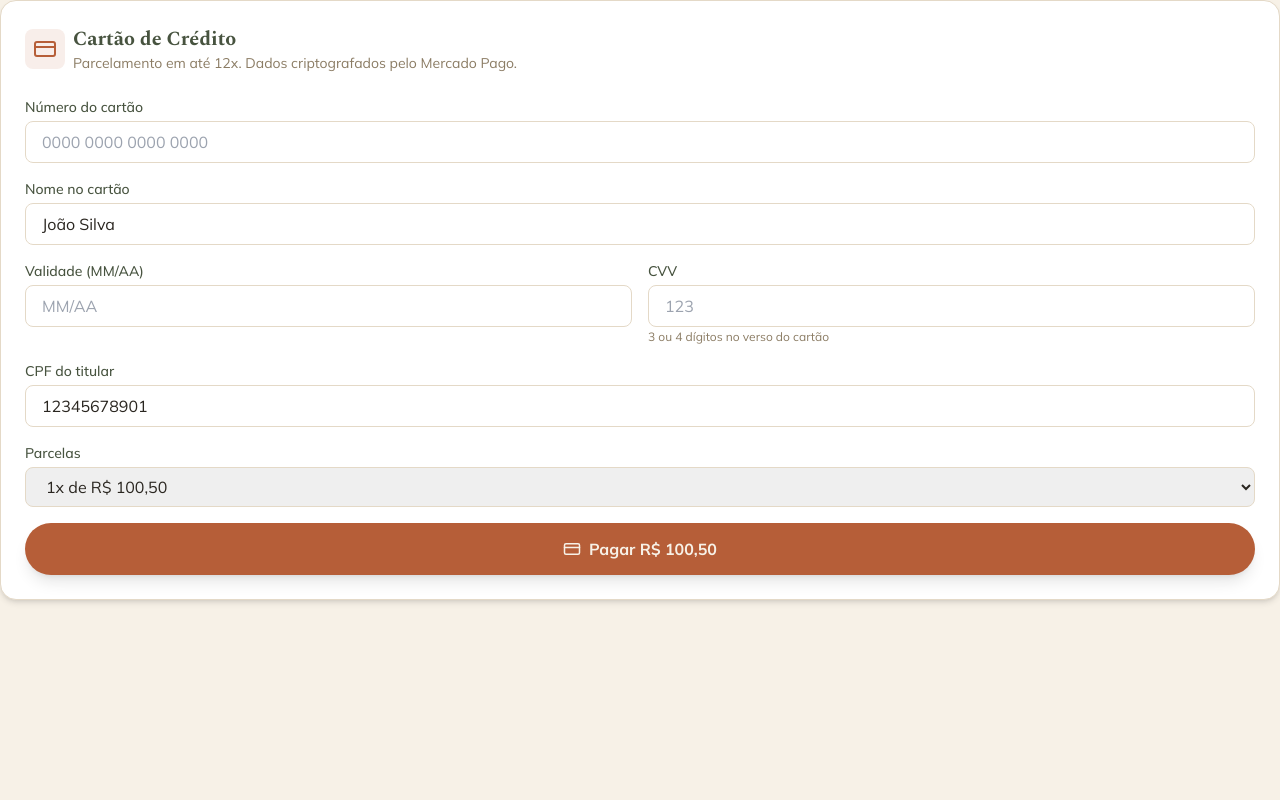
Test: CardPaymentForm › deve formatar número do cartão ao digitar
Type "1234567812345678" into the field with placeholder "0000 0000 0000 0000" at (640, 142), box [25,121,1255,163]
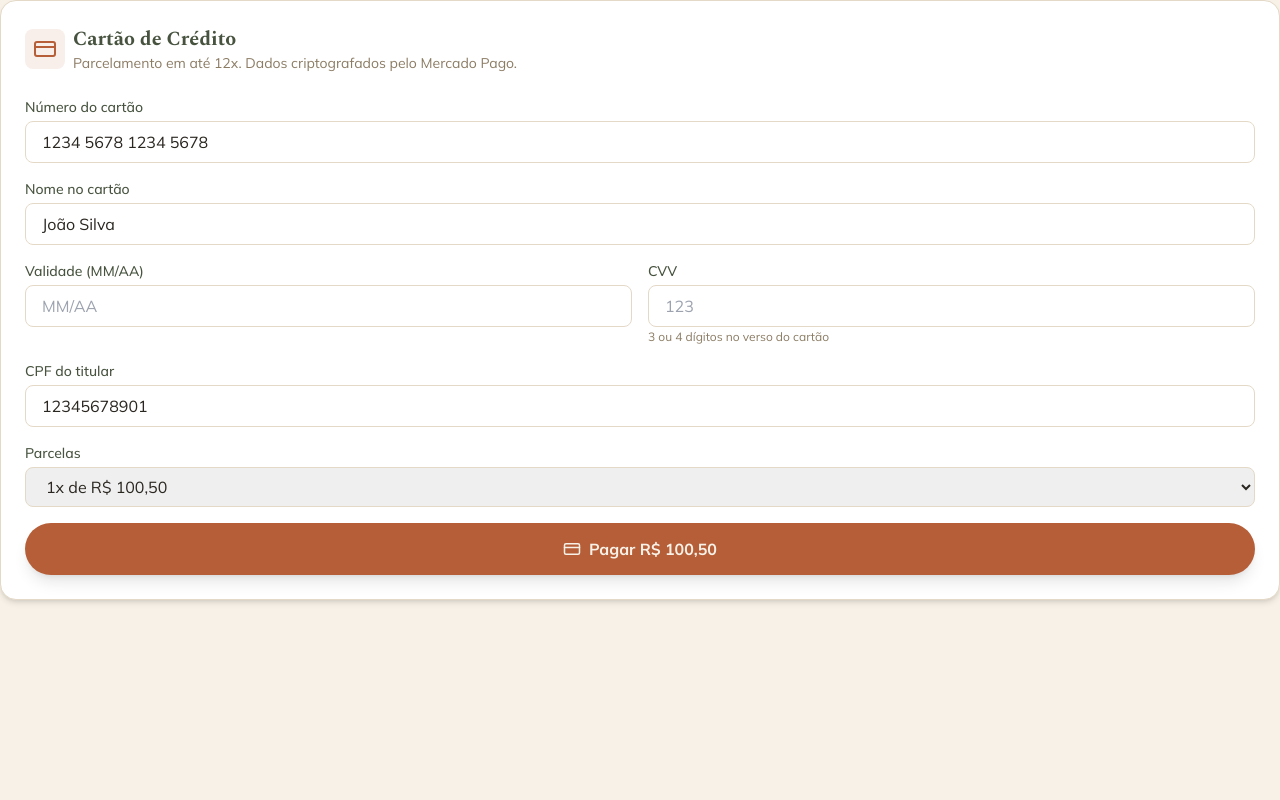
Check: the field with placeholder "0000 0000 0000 0000" below "Número do cartão" holds "1234 5678 1234 5678", box [25,121,1255,163]
